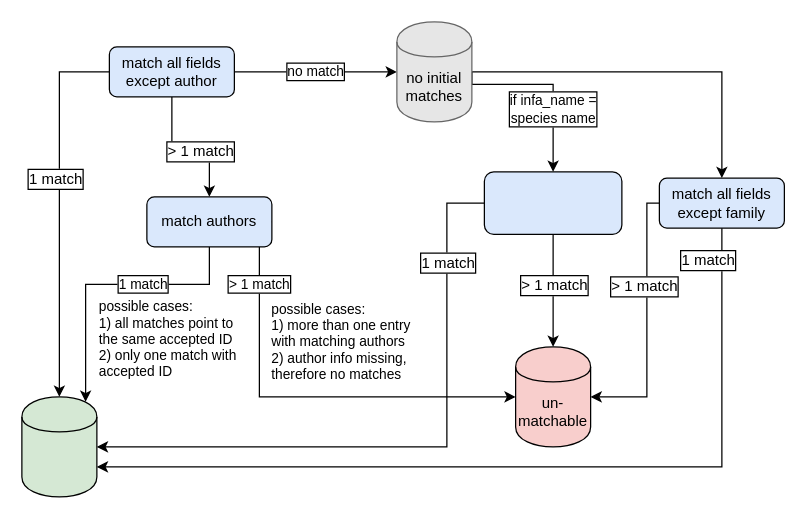
Some shapes in this 806 by 519 pixel diagram are drawn without their labels. The box of each missing label's shape, as (x1, y1, x2, y2) in pixels:
done: (21, 396, 97, 497)
match all fields except infra_name and taxon_rank: (483, 171, 622, 234)
